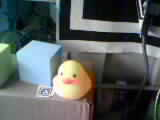duck: (42, 58, 89, 101)
